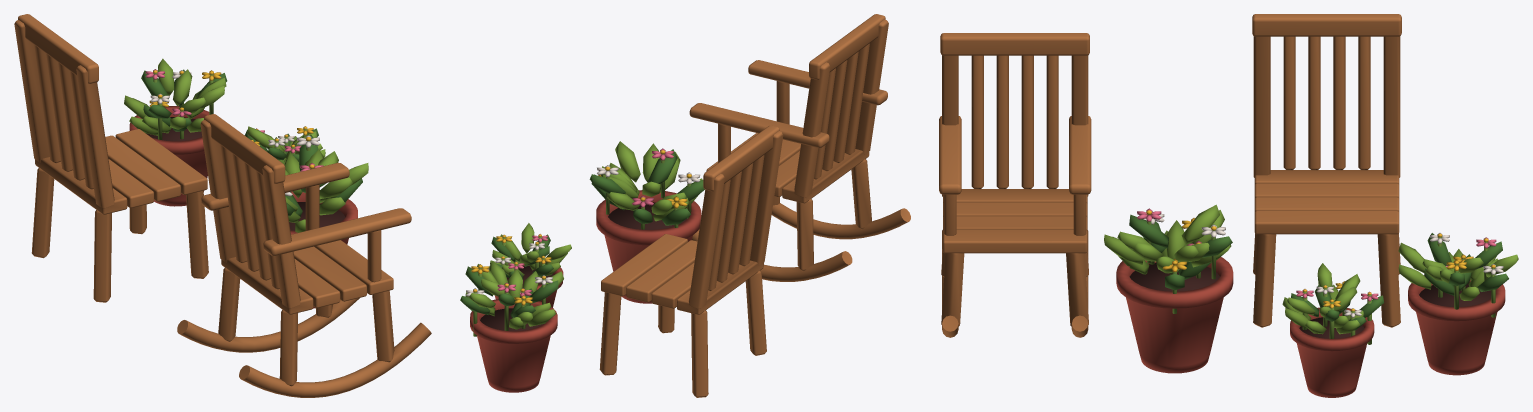
The model's file is house.porch-a.glb.
3 renders of one model, left to right at view 1: azimuth 30°, elevation 25°; view 2: azimuth 150°, elevation 25°; view 3: azimuth 270°, elevation 25°, orthographic. The views are drawn at different scales.
Size of the model in its own units: 1.32 by 1.14 by 2.32.
